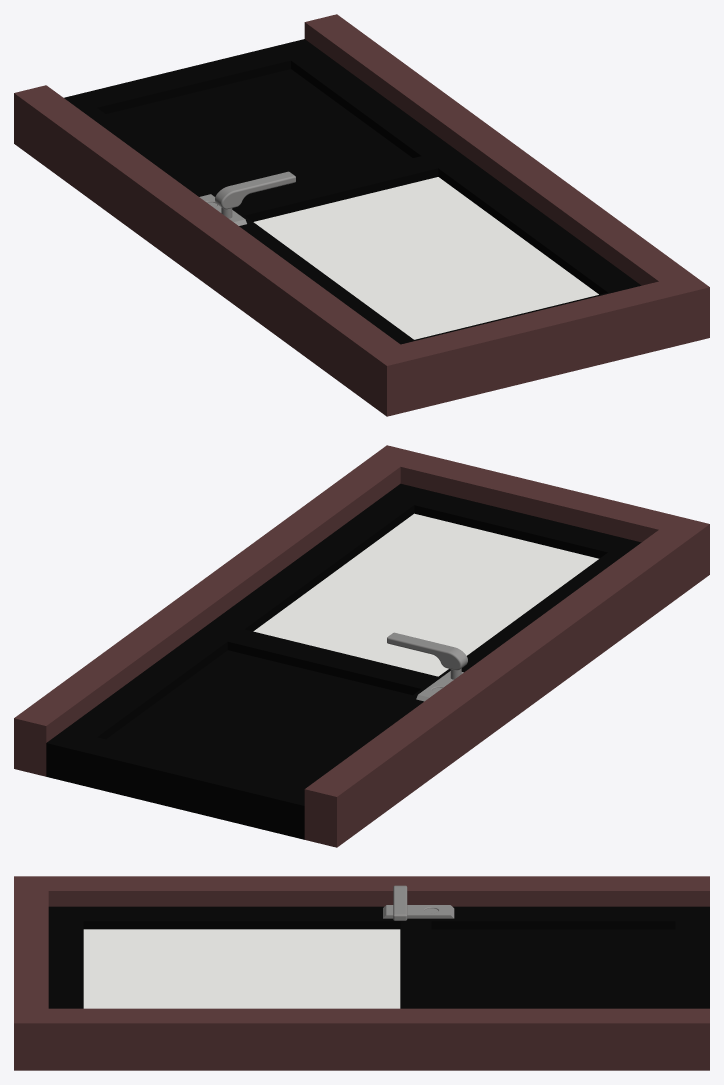
Rendered from Aluminum Door Glass Door.fbx.
3 renders of one model, top to bottom at view 1: azimuth 30°, elevation 25°; view 2: azimuth 150°, elevation 25°; view 3: azimuth 270°, elevation 25°, orthographic. The views are drawn at different scales.
Parts seen in each view (by area): view 1: Body1, Body9, Body2, Body10, Body14; view 2: Body1, Body2, Body9, Body10, Body14; view 3: Body1, Body9, Body2, Body10, Body13, Body14.
Boxes of the visible parts, x1,y1,x2,y2 form: Body1: [14, 14, 709, 416]; Body9: [253, 177, 598, 339]; Body2: [64, 39, 641, 344]; Body10: [106, 69, 412, 199]; Body14: [215, 171, 295, 209]; Body1: [14, 445, 709, 847]; Body2: [46, 483, 641, 839]; Body9: [253, 513, 598, 676]; Body10: [106, 650, 412, 784]; Body14: [387, 632, 467, 670]; Body1: [14, 876, 709, 1070]; Body9: [83, 929, 400, 1008]; Body2: [48, 906, 709, 1008]; Body10: [431, 929, 675, 1008]; Body13: [383, 905, 454, 918]; Body14: [393, 885, 407, 920].
Size of the model in its own units: 10 by 2.8 by 20.
